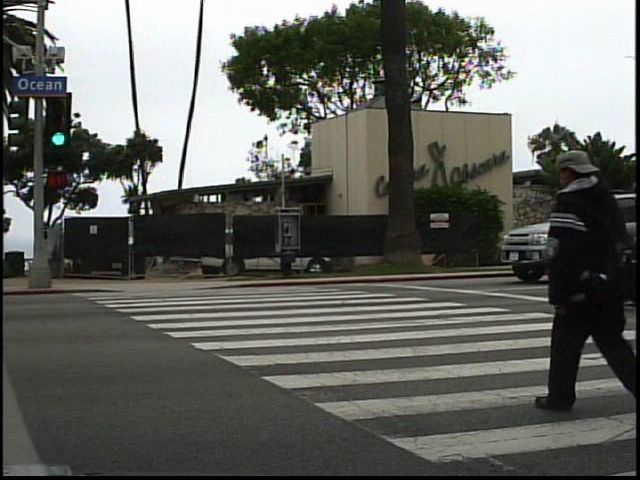person: (531, 135, 635, 417)
